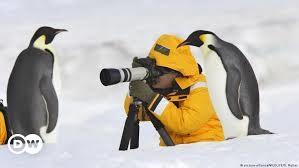emporer: (176, 19, 272, 145), (4, 23, 78, 146)
